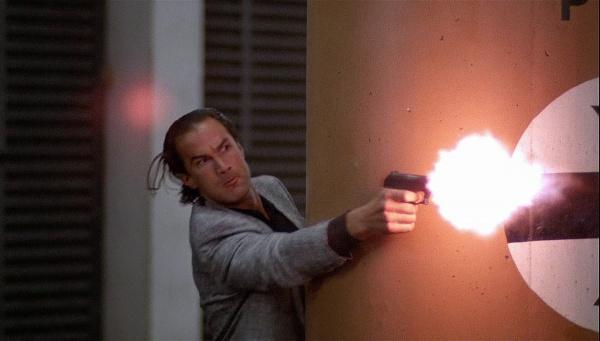Gun: (384, 169, 438, 205)
